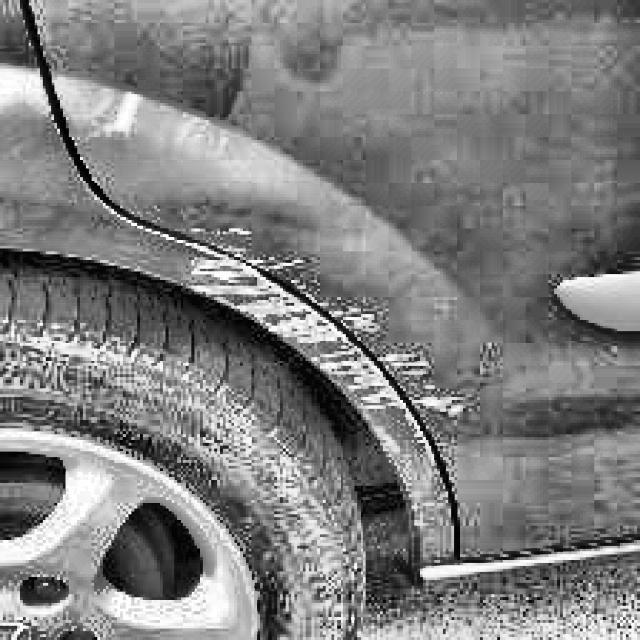door_scratch: (188, 234, 476, 419)
